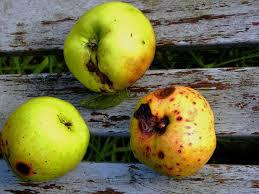apple: (1, 93, 95, 186), (134, 90, 218, 174), (68, 5, 154, 84)
